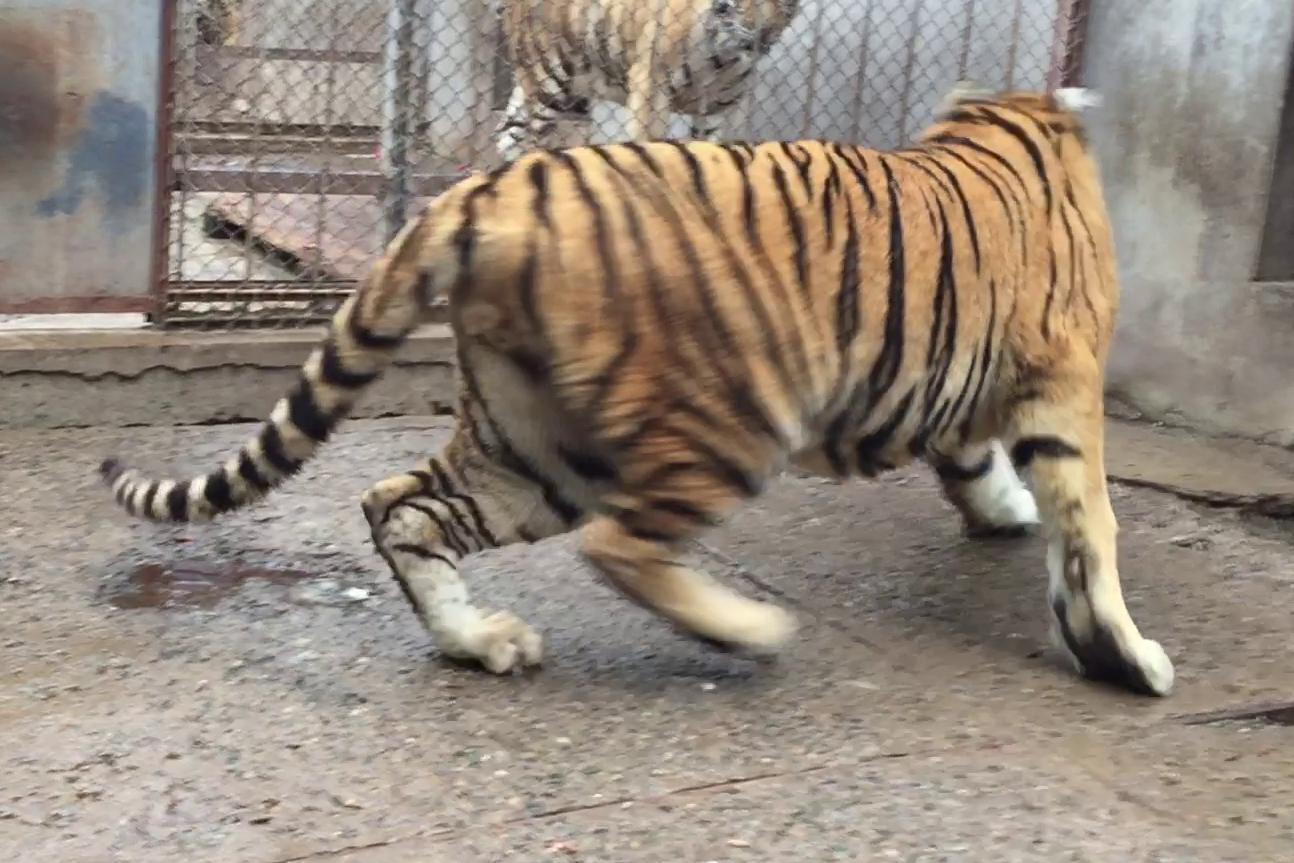tiger: (103, 88, 1173, 696)
